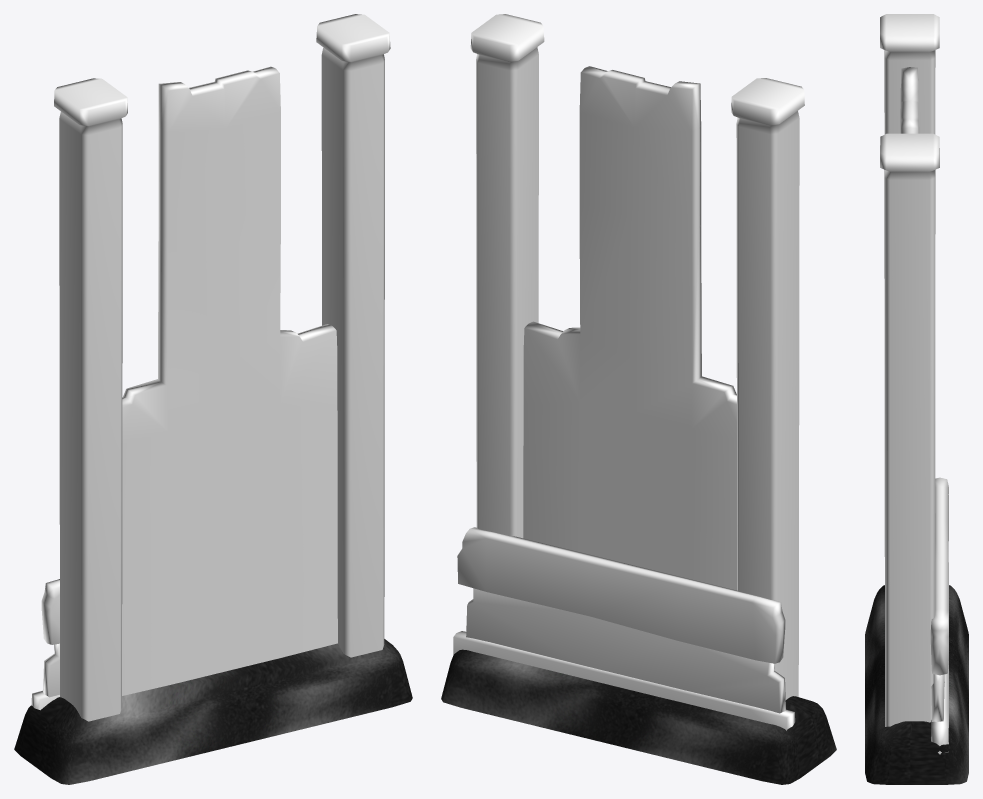
File: WildWestBarrierBroken.glb
The picture shows the model from 3 angles, left to right: view 1: azimuth 30°, elevation 25°; view 2: azimuth 150°, elevation 25°; view 3: azimuth 270°, elevation 25°; orthographic projection. The views are drawn at different scales.
Visible parts, largest first — view 1: BarrierHologram, SmokeBrokenBarrierAndDoor; view 2: BarrierHologram, SmokeBrokenBarrierAndDoor; view 3: BarrierHologram, SmokeBrokenBarrierAndDoor.
Boxes of the visible parts, <box> form: BarrierHologram: <box>31,14,390,721</box>; SmokeBrokenBarrierAndDoor: <box>14,639,412,784</box>; BarrierHologram: <box>453,14,804,730</box>; SmokeBrokenBarrierAndDoor: <box>441,649,836,784</box>; BarrierHologram: <box>880,14,948,754</box>; SmokeBrokenBarrierAndDoor: <box>865,585,968,784</box>.
Bounding box in the file's own units: 1.18 × 2.11 × 0.3194.
3 materials, 2 textured.
